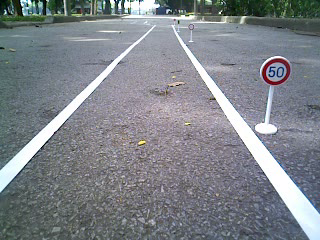limit 50: (258, 55, 297, 88)
